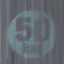Speed limit: (4, 7, 59, 56)
